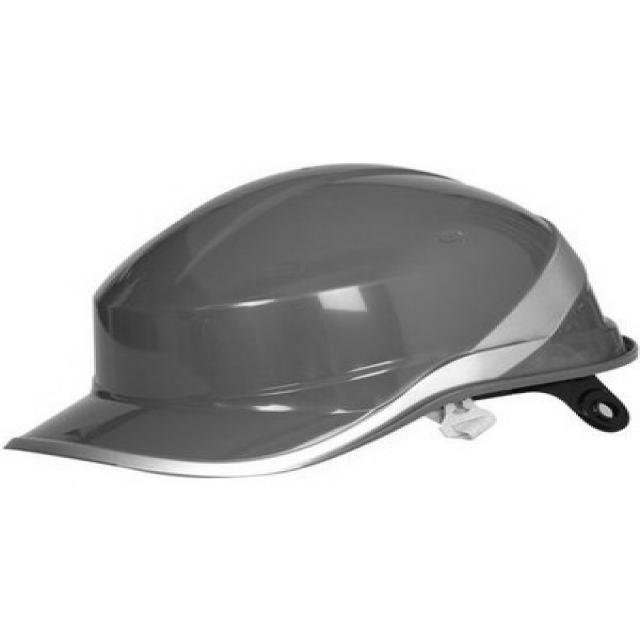safety_helmet: (6, 165, 640, 481)
